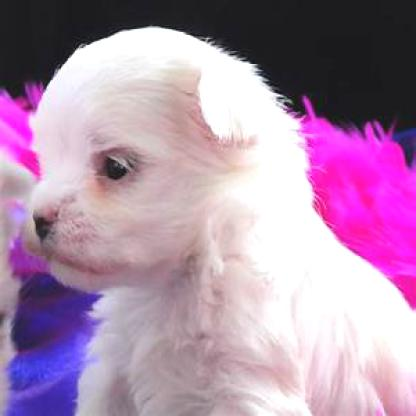dog: (22, 24, 415, 415)
